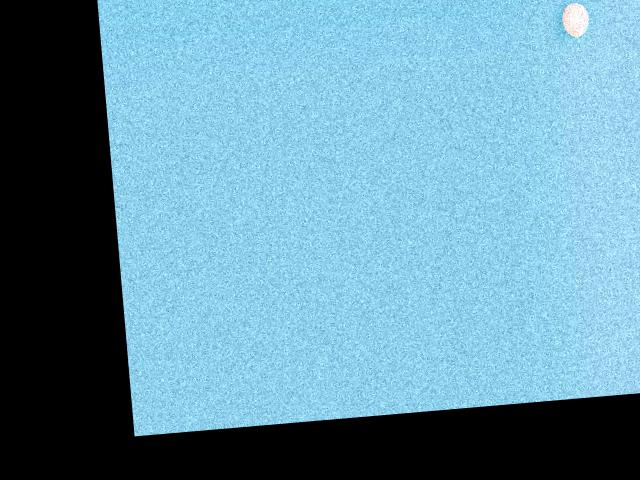egg: (561, 1, 590, 38)
